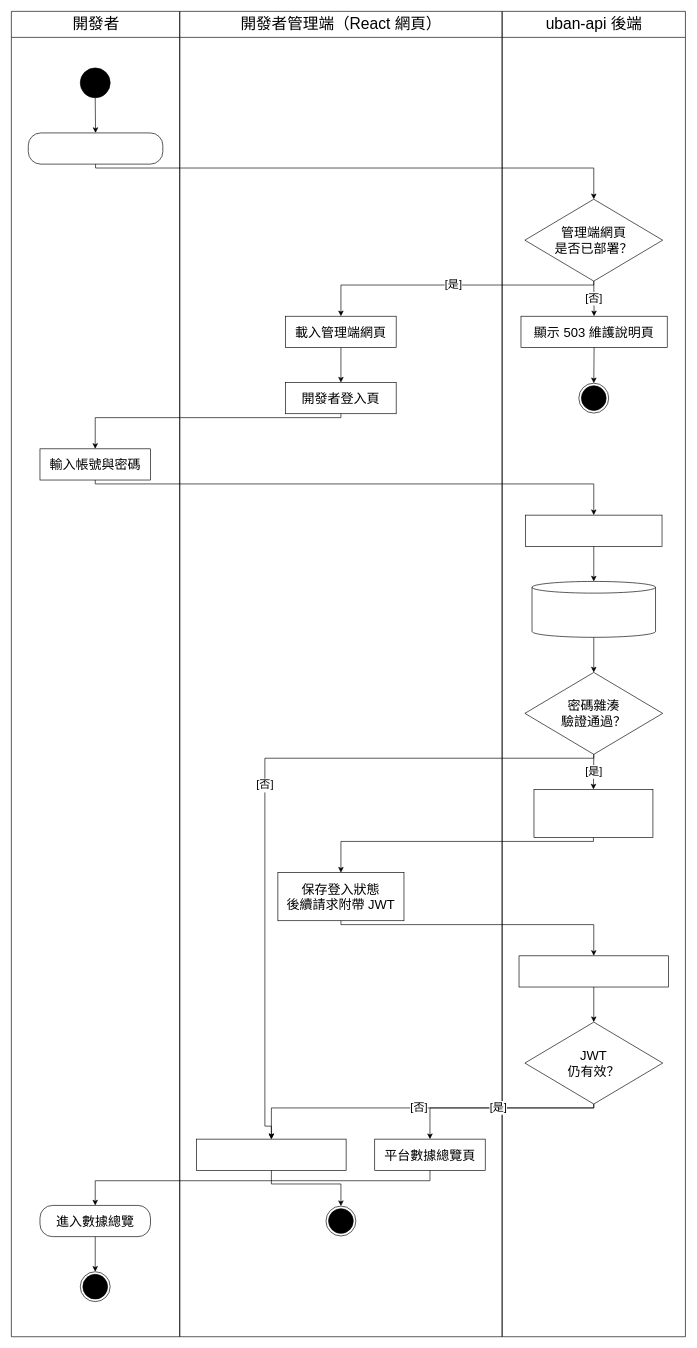
Image size: 697x1348. Some labels were removed from this diagram. The centre of each missing label's shape, as x and y in pixels:
停留登入頁並顯示錯誤: (271,1154)
查詢目前登入的開發者: (593,971)
瀏覽器開啟 /admin: (95,148)
簽發 JWT （12 小時有效）: (593,813)
開發者帳號資料表 （三位開發者）: (593,609)
驗證開發者帳號密碼: (593,530)
